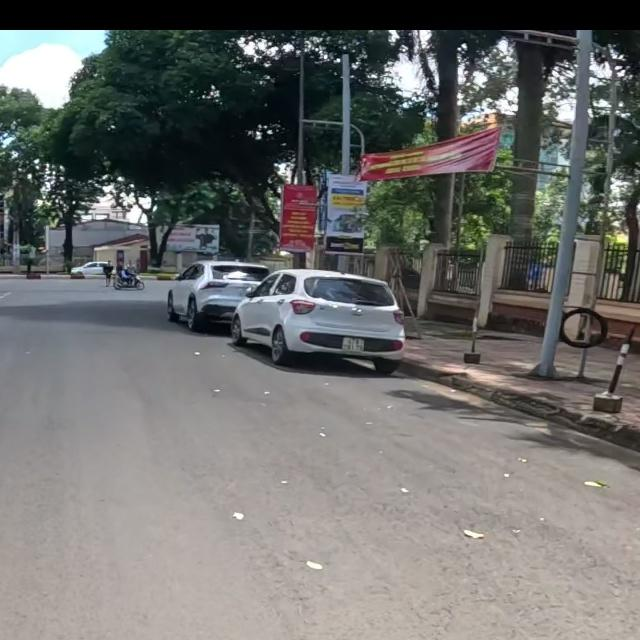license-plate: (343, 338, 365, 351)
